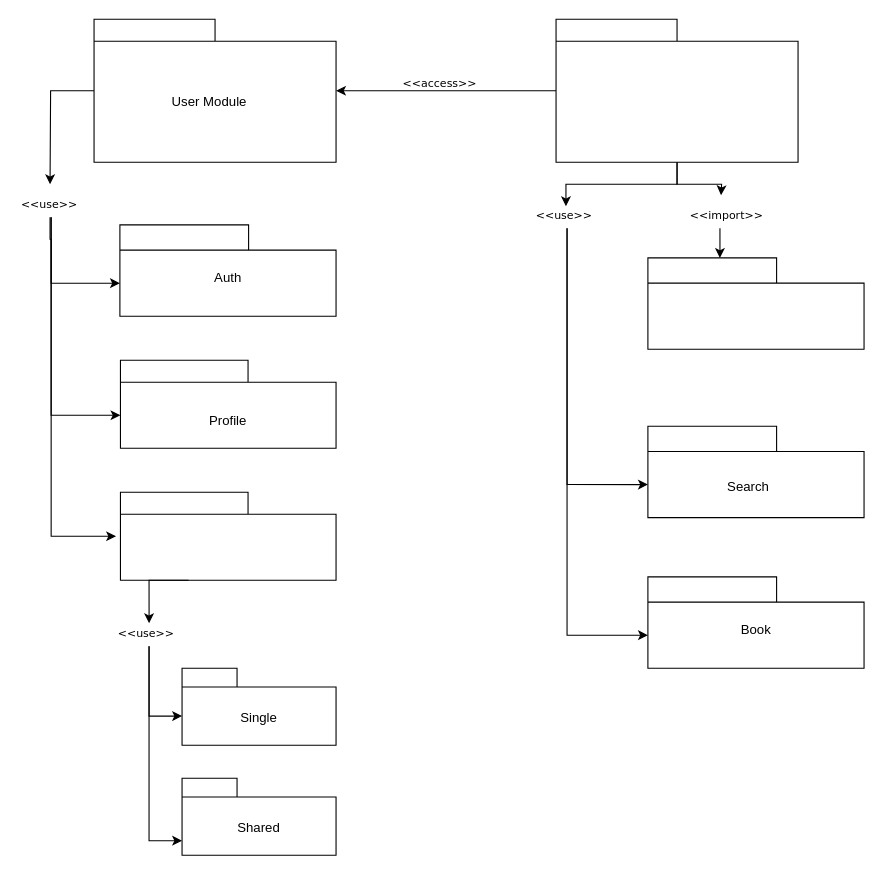
This 883x875 diagram has some shape labels left out. Here are the shapes that lost their labels. From the top down, the box of each, then its label:
(555, 18, 798, 162): Trip Module
(647, 257, 864, 349): SMS Gate
(119, 491, 336, 580): Payment module
